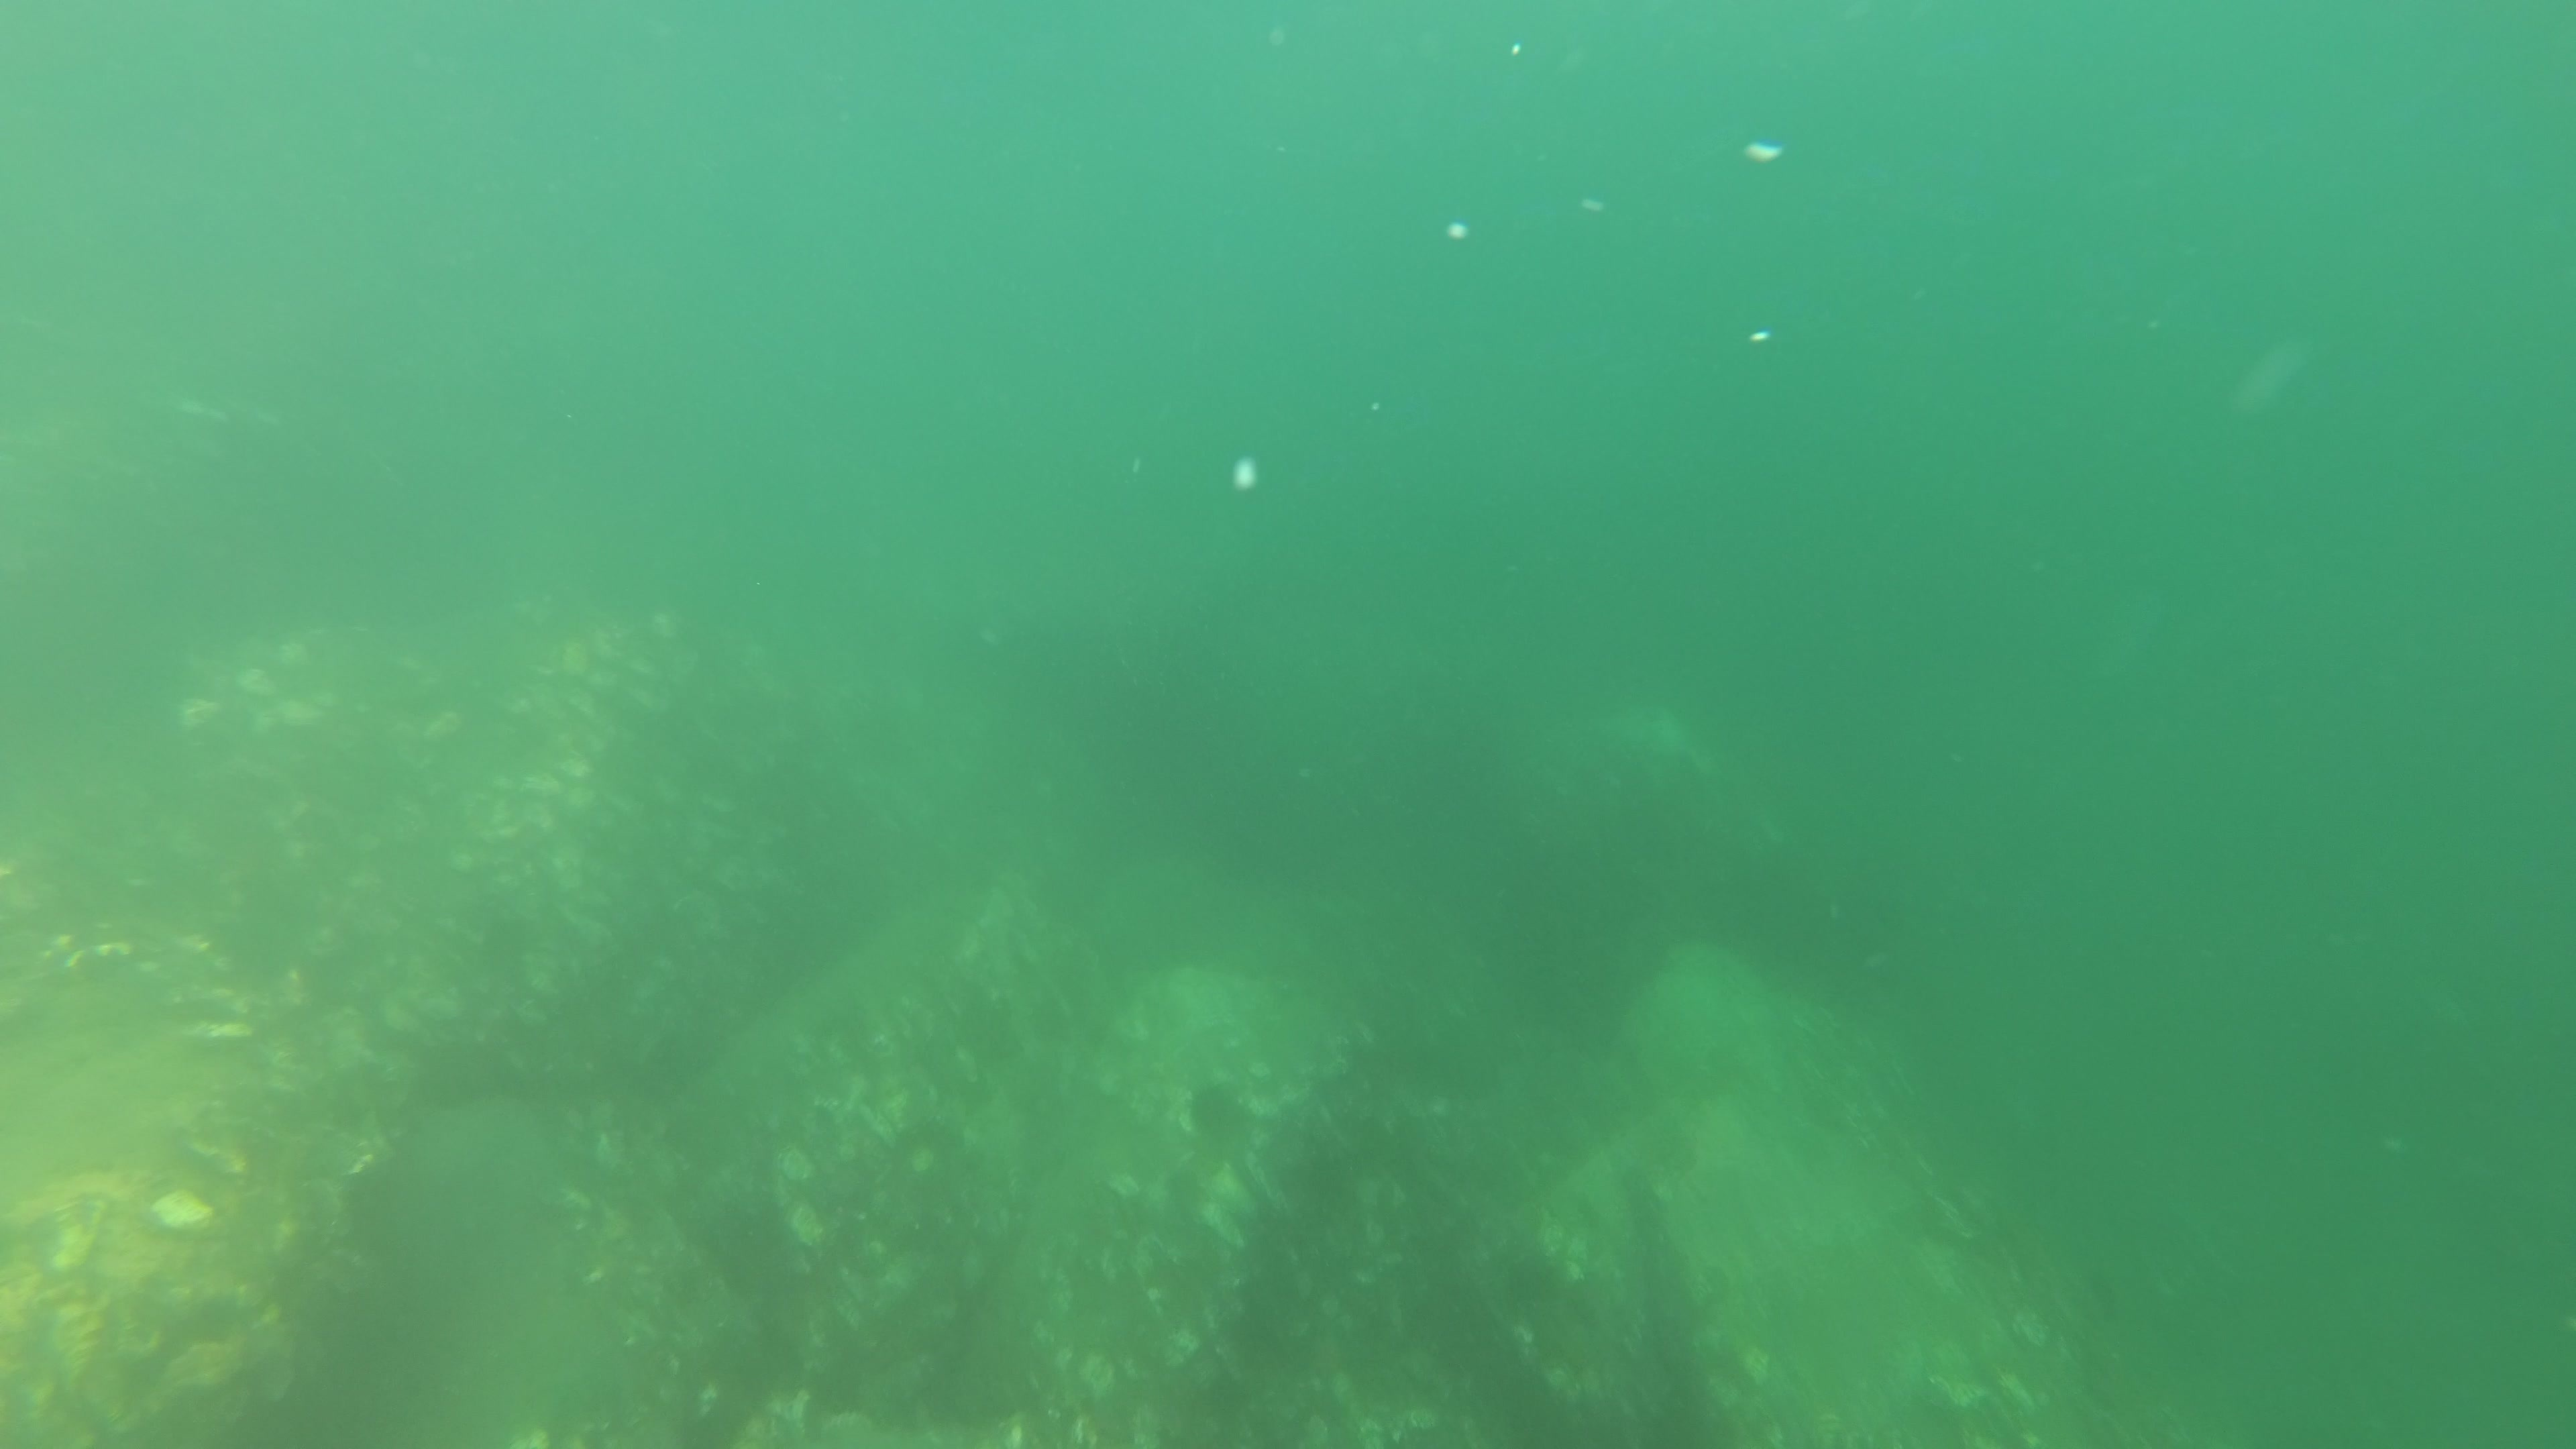echinus: (1187, 1076, 1246, 1139)
